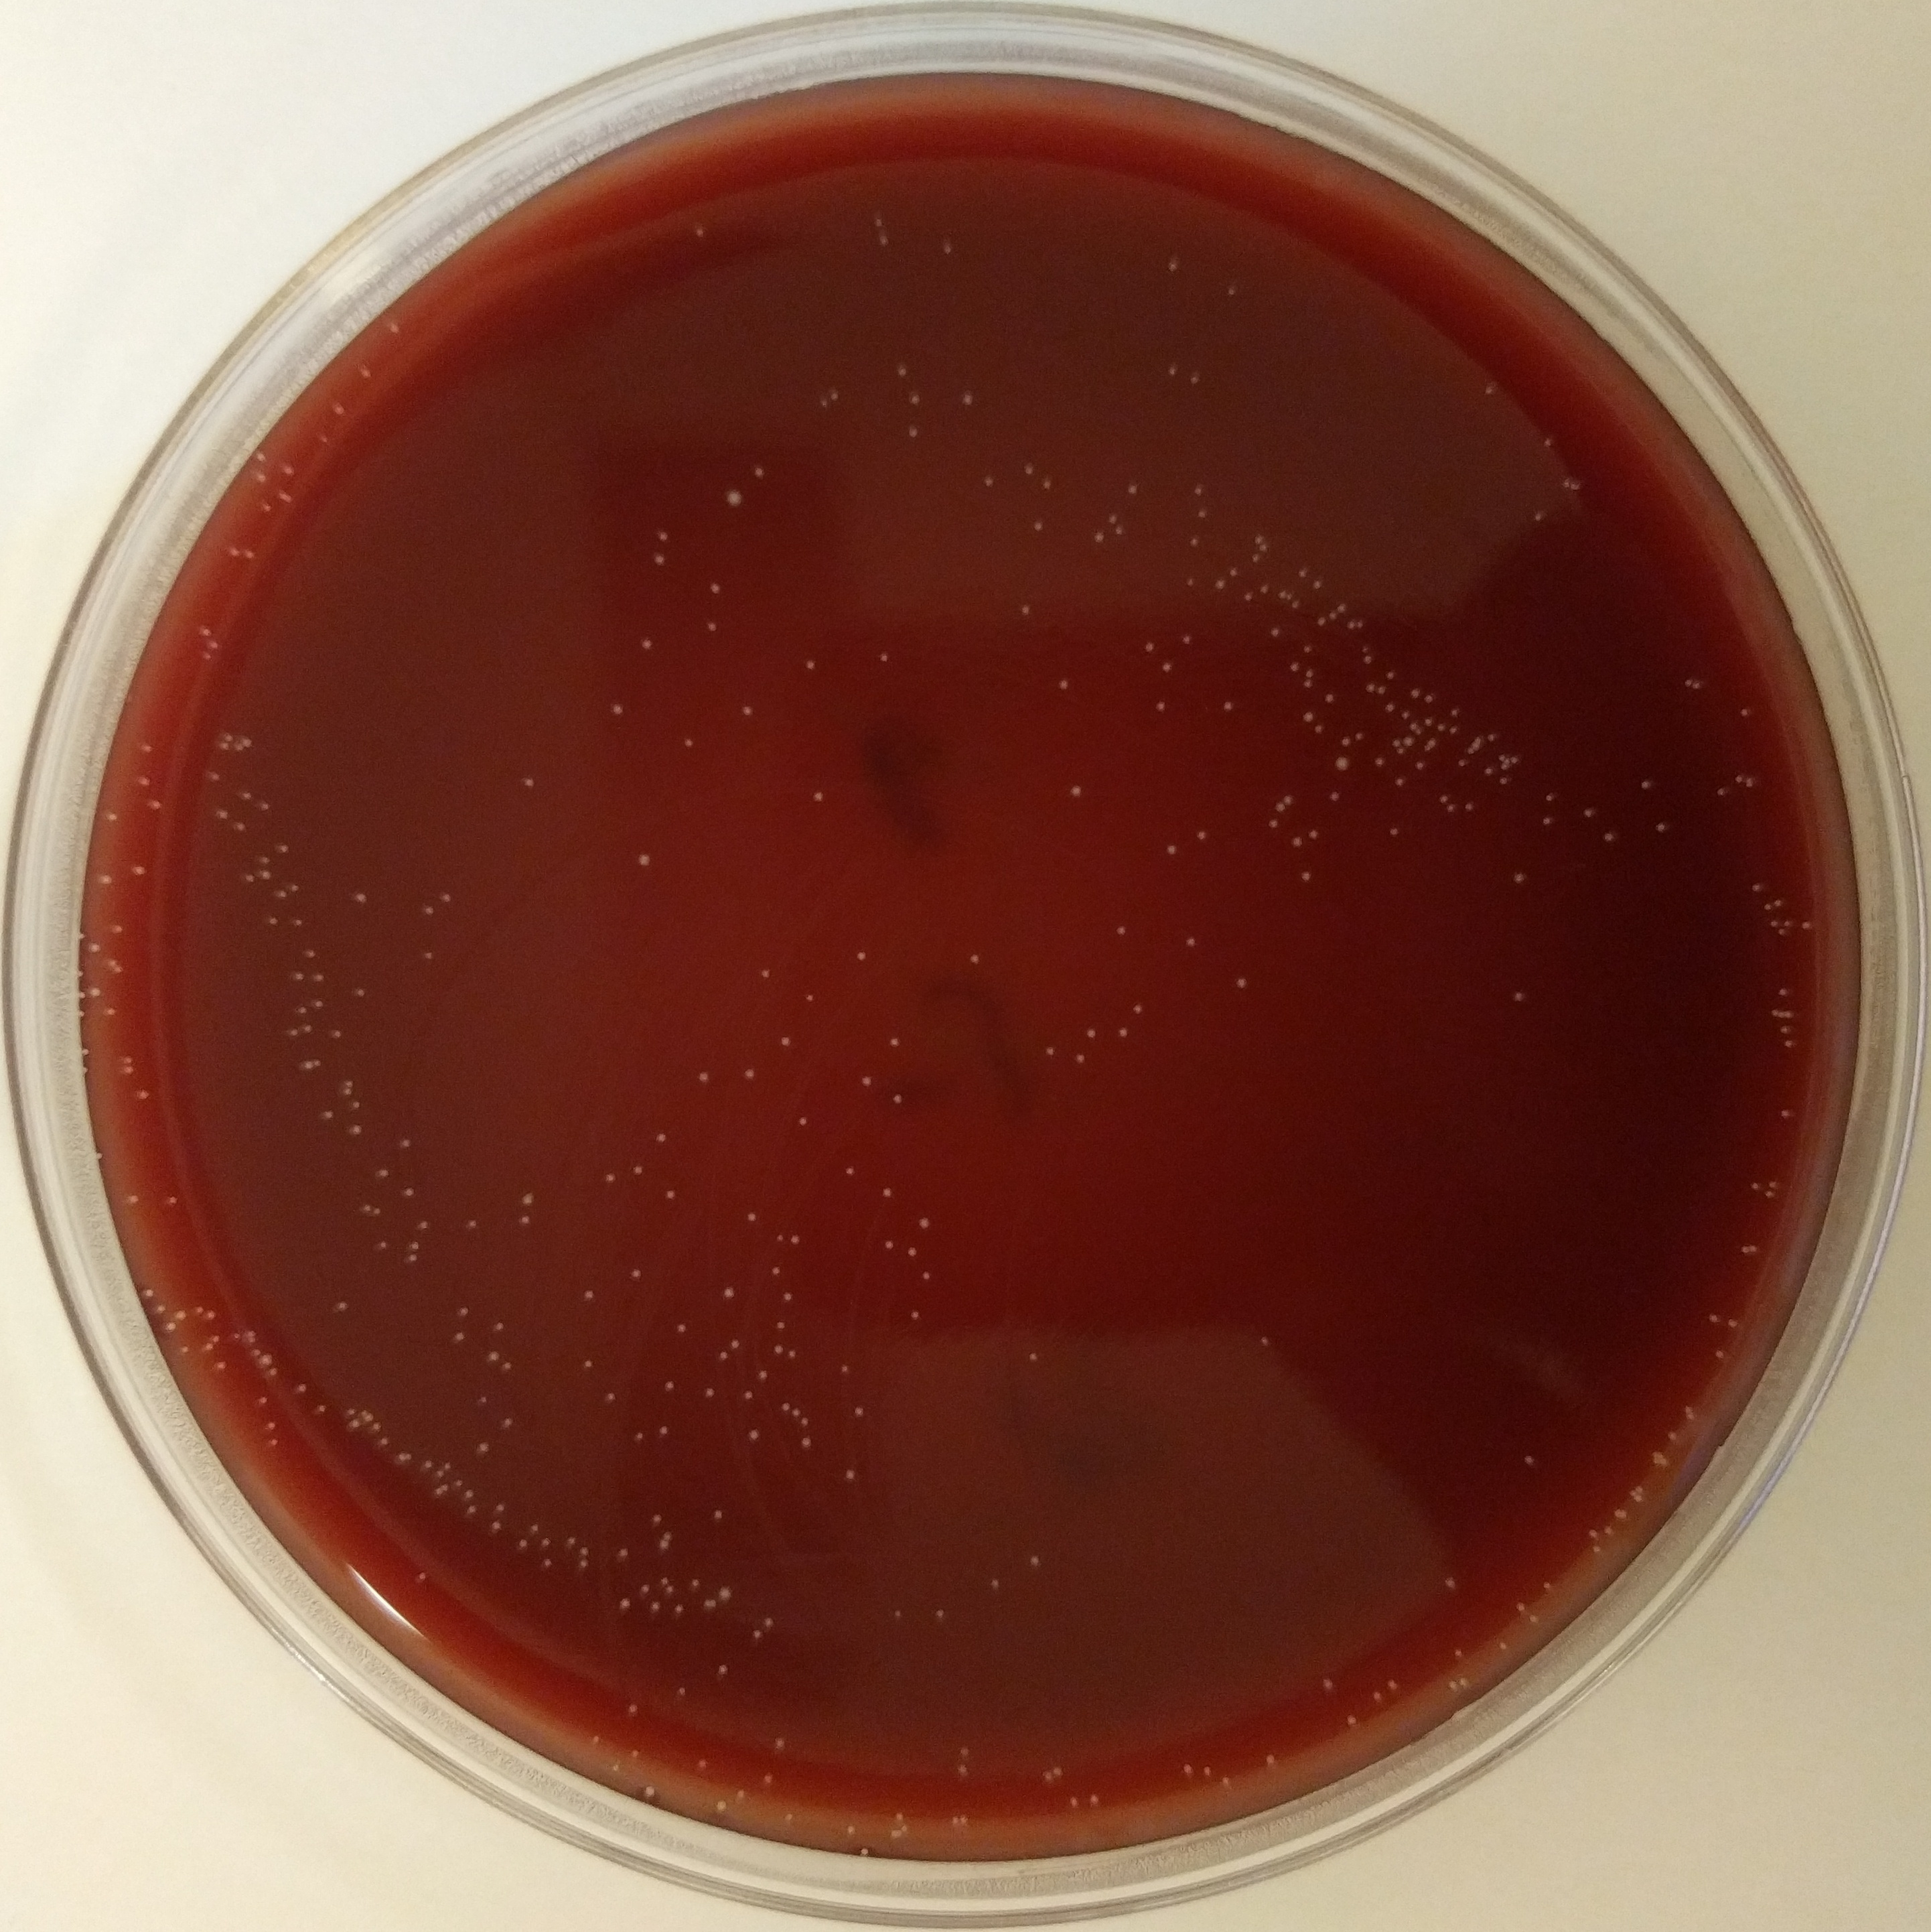sp09: (1650, 1445, 1675, 1472), (935, 235, 960, 258), (721, 490, 750, 510), (688, 223, 713, 244), (957, 387, 978, 412), (983, 1575, 1006, 1596), (700, 1385, 721, 1408), (1187, 368, 1206, 393), (902, 387, 928, 405), (902, 423, 923, 444), (743, 1424, 764, 1445), (750, 465, 773, 485), (690, 1753, 713, 1773), (838, 1465, 861, 1484), (474, 1435, 493, 1458), (143, 794, 166, 814), (239, 543, 258, 566), (345, 1120, 370, 1138), (874, 232, 895, 251), (1222, 281, 1243, 301), (1332, 754, 1351, 775), (1298, 674, 1319, 694), (1319, 1672, 1340, 1691), (914, 1214, 935, 1233), (875, 1182, 897, 1201), (255, 1352, 276, 1371), (953, 1743, 976, 1760), (718, 1582, 736, 1605), (198, 768, 221, 786), (1063, 1794, 1082, 1813), (713, 1660, 732, 1679), (295, 1380, 315, 1399), (1233, 975, 1252, 994), (516, 771, 536, 791), (637, 632, 656, 651), (279, 488, 299, 508), (315, 428, 334, 448), (1542, 787, 1560, 809), (1450, 1640, 1468, 1661), (849, 1403, 870, 1421), (858, 1070, 875, 1092), (965, 950, 983, 971), (1174, 632, 1197, 648), (927, 1605, 950, 1621), (1257, 1750, 1280, 1766), (953, 1762, 978, 1776), (653, 527, 672, 545), (1040, 476, 1059, 494), (1164, 364, 1183, 382), (1457, 1674, 1475, 1693), (711, 1798, 729, 1817), (601, 1389, 621, 1407), (842, 1164, 861, 1182), (661, 1185, 679, 1205), (262, 1414, 279, 1433), (608, 699, 626, 718), (801, 656, 820, 674), (396, 1132, 414, 1152), (286, 968, 306, 985), (384, 320, 403, 338), (1019, 598, 1034, 619), (1252, 1332, 1273, 1348), (1344, 1711, 1360, 1732), (1026, 1348, 1042, 1369), (753, 964, 775, 980), (258, 867, 279, 883), (255, 497, 271, 518), (249, 469, 271, 485), (327, 402, 348, 418), (1515, 1451, 1538, 1465), (1238, 589, 1256, 607), (1335, 600, 1353, 617), (1057, 676, 1075, 694), (1512, 869, 1530, 886), (1703, 1309, 1721, 1327), (1386, 1677, 1404, 1695), (635, 1580, 653, 1598), (905, 1307, 923, 1325), (798, 1435, 815, 1453), (630, 1263, 647, 1281), (580, 1288, 598, 1306), (518, 1189, 536, 1207), (630, 1162, 647, 1180), (334, 1297, 352, 1315), (1040, 1044, 1057, 1062), (309, 968, 327, 985), (421, 901, 439, 918), (221, 545, 239, 563), (870, 212, 889, 228), (1185, 533, 1204, 548), (1156, 699, 1172, 718), (1065, 782, 1084, 798), (1162, 842, 1181, 858), (1652, 817, 1668, 837), (1026, 1552, 1045, 1568), (1036, 1767, 1056, 1783), (1088, 1790, 1103, 1810), (888, 1828, 907, 1844), (202, 1309, 221, 1325), (159, 1318, 179, 1334), (649, 1129, 668, 1145), (743, 1063, 759, 1083), (237, 784, 253, 803), (271, 840, 290, 856), (1202, 1762, 1217, 1783), (1118, 1023, 1132, 1044), (645, 552, 667, 566), (893, 364, 911, 380), (980, 472, 997, 488), (1195, 828, 1213, 844), (1287, 833, 1305, 849), (1321, 692, 1339, 708), (1579, 803, 1595, 821), (1742, 775, 1758, 793), (1726, 1315, 1742, 1332), (889, 1808, 907, 1824), (608, 1760, 624, 1778), (587, 1730, 605, 1746), (762, 1617, 780, 1633), (488, 1518, 506, 1534), (836, 1361, 854, 1376), (631, 1428, 647, 1445), (663, 1376, 679, 1394), (746, 1208, 762, 1226), (918, 1269, 934, 1286), (721, 1286, 739, 1302), (675, 1320, 693, 1336), (580, 1355, 598, 1371), (497, 1414, 515, 1430), (375, 1164, 391, 1182), (695, 1069, 711, 1086), (803, 989, 819, 1007), (1084, 1024, 1100, 1042), (810, 787, 826, 805), (741, 701, 757, 718), (702, 619, 720, 635), (301, 947, 318, 962), (110, 920, 127, 936), (232, 819, 248, 837), (279, 464, 297, 479), (357, 364, 373, 382), (1125, 483, 1144, 497), (1478, 384, 1498, 398), (1323, 789, 1342, 803), (513, 1537, 532, 1552), (486, 1320, 506, 1334), (133, 1088, 152, 1102), (1114, 524, 1130, 540), (1091, 527, 1107, 543), (1268, 800, 1284, 816), (1312, 722, 1328, 738), (1386, 824, 1402, 840), (893, 1606, 909, 1622), (842, 1822, 858, 1838), (622, 1700, 638, 1716), (615, 1596, 631, 1612), (615, 1546, 631, 1562), (755, 1366, 771, 1382), (790, 1233, 806, 1249), (882, 1238, 898, 1254), (456, 1302, 472, 1318), (152, 1300, 168, 1316), (638, 853, 654, 869), (440, 890, 456, 906), (354, 890, 370, 906), (129, 862, 145, 878), (214, 807, 230, 823), (253, 449, 269, 465), (1158, 662, 1176, 676), (1280, 794, 1294, 812), (1300, 869, 1314, 886), (1303, 708, 1317, 725), (1114, 924, 1132, 938), (760, 1771, 778, 1785), (769, 1736, 787, 1750), (647, 1509, 665, 1523), (799, 1412, 813, 1430), (780, 1288, 794, 1306), (405, 1253, 423, 1267), (407, 1238, 421, 1256), (370, 1201, 384, 1219), (1073, 1053, 1091, 1067), (1183, 934, 1201, 948), (875, 649, 889, 667), (318, 1106, 332, 1123), (239, 870, 256, 885), (97, 872, 115, 886), (103, 955, 120, 970), (87, 985, 104, 1000), (104, 809, 118, 826), (256, 796, 271, 814), (1183, 577, 1202, 589), (1445, 1571, 1457, 1591), (729, 1789, 748, 1801), (343, 1419, 363, 1431), (99, 1007, 118, 1019), (1190, 483, 1204, 499), (1195, 508, 1210, 524), (1250, 550, 1264, 566), (1227, 564, 1241, 580), (1213, 577, 1227, 593), (1268, 626, 1284, 640), (1222, 697, 1236, 713), (1268, 817, 1282, 833), (1309, 826, 1323, 842), (1376, 685, 1390, 701), (1406, 686, 1422, 701), (1392, 775, 1408, 789), (1540, 812, 1554, 828), (1636, 778, 1652, 793), (1602, 830, 1618, 844), (1779, 1106, 1793, 1122), (944, 1813, 960, 1828), (642, 1785, 658, 1799), (626, 1744, 640, 1760), (750, 1628, 764, 1644), (649, 1601, 663, 1617), (451, 1476, 467, 1490), (787, 1346, 801, 1362), (741, 1387, 755, 1403), (656, 1424, 672, 1438), (775, 1318, 789, 1334), (474, 1392, 490, 1407), (518, 1214, 534, 1228), (394, 1451, 408, 1467), (214, 1359, 230, 1373), (375, 1237, 389, 1253), (403, 1185, 417, 1201), (889, 1092, 905, 1106), (854, 948, 868, 964), (423, 950, 439, 964), (88, 939, 103, 955), (136, 773, 152, 787), (240, 734, 255, 750), (1510, 991, 1528, 1003), (1498, 1638, 1510, 1656), (856, 1845, 874, 1858), (465, 1502, 477, 1520), (483, 1348, 500, 1361), (780, 1031, 792, 1049), (136, 745, 154, 757), (212, 741, 232, 752), (1020, 460, 1034, 474), (1540, 435, 1554, 449), (1339, 736, 1353, 750), (1353, 731, 1367, 745), (1286, 660, 1300, 674), (1360, 653, 1374, 667), (1401, 734, 1415, 748), (1372, 755, 1386, 770), (1462, 800, 1477, 814), (1438, 793, 1452, 807), (1713, 787, 1728, 801), (1777, 985, 1791, 1000), (1745, 1178, 1759, 1192), (1712, 1346, 1726, 1361), (1050, 1762, 1065, 1776), (1370, 1690, 1385, 1704), (1445, 1679, 1459, 1693), (527, 1522, 541, 1536), (416, 1568, 430, 1582), (790, 1407, 805, 1421), (771, 1341, 785, 1355), (904, 1246, 918, 1260), (378, 1435, 393, 1449), (331, 1028, 345, 1042), (274, 888, 288, 902), (288, 881, 302, 895), (828, 387, 843, 400), (1031, 520, 1047, 533), (1254, 531, 1266, 547), (1296, 566, 1309, 582), (1324, 609, 1337, 625), (1351, 617, 1367, 630), (1142, 642, 1158, 655), (1303, 669, 1319, 681), (1363, 681, 1379, 694), (1774, 925, 1790, 938), (1510, 1601, 1526, 1614), (1220, 1773, 1233, 1789), (576, 1545, 592, 1557), (539, 1557, 555, 1569), (495, 1500, 508, 1516), (775, 1231, 787, 1247), (265, 1440, 281, 1453), (140, 1286, 156, 1299), (1132, 1001, 1144, 1017), (679, 736, 695, 748), (294, 916, 306, 932), (1169, 258, 1179, 276), (1254, 584, 1271, 594), (1689, 679, 1706, 690), (1583, 1527, 1600, 1537), (126, 1189, 136, 1207), (294, 1005, 311, 1016), (1314, 617, 1328, 630), (1406, 718, 1420, 731), (1448, 706, 1462, 718), (1455, 759, 1469, 771), (1485, 732, 1500, 745), (1445, 801, 1457, 816), (1772, 897, 1786, 909), (1763, 1189, 1777, 1201), (1738, 1242, 1751, 1256), (1611, 1504, 1623, 1518), (1526, 1612, 1540, 1624), (1183, 1762, 1195, 1776), (660, 1573, 672, 1587), (661, 1527, 674, 1541), (564, 1536, 578, 1548), (729, 1339, 743, 1352), (364, 1412, 378, 1424), (265, 1366, 279, 1378), (173, 1307, 186, 1322), (794, 1113, 806, 1127), (889, 1035, 902, 1049), (709, 584, 723, 596), (258, 855, 271, 869), (74, 929, 88, 941), (74, 966, 87, 980), (92, 1152, 104, 1166), (122, 1053, 134, 1067), (198, 625, 212, 637), (207, 637, 221, 649), (1298, 646, 1314, 656), (1390, 734, 1401, 750), (1620, 1504, 1630, 1520), (654, 1541, 670, 1552), (769, 1261, 780, 1277), (297, 1058, 313, 1069), (196, 651, 212, 662), (1415, 725, 1427, 738), (1471, 736, 1484, 748), (1482, 766, 1494, 778), (1738, 706, 1751, 718), (1751, 883, 1763, 895), (1761, 901, 1774, 913), (1765, 1003, 1777, 1016), (1782, 1039, 1795, 1051), (1749, 1242, 1761, 1254), (898, 1822, 911, 1835), (690, 1576, 702, 1589), (578, 1559, 591, 1571), (463, 1488, 476, 1500), (431, 1486, 444, 1499), (716, 1348, 729, 1361), (451, 1329, 463, 1341), (465, 1217, 477, 1230), (345, 1407, 357, 1419), (244, 1327, 256, 1339), (355, 987, 368, 1000), (80, 1044, 92, 1056), (122, 1063, 134, 1076), (223, 729, 235, 741), (819, 395, 829, 409), (1105, 511, 1119, 522), (1291, 596, 1301, 610), (1561, 476, 1572, 490), (1385, 669, 1399, 679), (1425, 715, 1436, 729), (1446, 724, 1457, 738), (1397, 745, 1408, 759), (1733, 773, 1744, 787), (1802, 918, 1813, 932), (1666, 1431, 1680, 1442), (674, 1686, 688, 1697), (713, 1506, 723, 1520), (541, 1534, 552, 1548), (780, 1401, 794, 1412), (605, 1171, 619, 1182), (355, 1408, 370, 1419), (317, 1401, 327, 1415), (166, 1194, 180, 1205), (661, 1583, 677, 1592), (1312, 579, 1323, 591), (1342, 619, 1355, 630), (1425, 694, 1436, 706), (1422, 741, 1432, 754), (1500, 775, 1510, 787), (1779, 1021, 1790, 1033), (1768, 1178, 1781, 1189), (1602, 1523, 1613, 1536), (1542, 1580, 1554, 1591), (958, 1813, 969, 1826), (780, 1812, 792, 1822), (440, 1483, 451, 1495), (502, 1361, 513, 1373), (371, 1422, 382, 1435), (256, 1394, 269, 1405), (249, 1346, 262, 1357), (244, 1336, 256, 1346), (209, 1332, 221, 1343), (419, 1219, 430, 1231), (354, 1099, 364, 1111), (311, 1058, 322, 1070), (315, 998, 325, 1010), (78, 987, 88, 1000), (232, 743, 244, 754), (1277, 587, 1286, 602), (1570, 483, 1584, 492), (1399, 711, 1413, 720), (341, 1088, 355, 1097), (301, 1024, 315, 1033), (286, 1026, 295, 1040), (269, 915, 278, 929), (1429, 734, 1439, 745), (1415, 759, 1425, 770), (1782, 916, 1793, 927), (674, 1603, 684, 1614), (435, 1468, 446, 1479), (361, 1201, 371, 1212), (347, 1077, 357, 1088), (1436, 725, 1448, 734), (1466, 745, 1475, 757), (1501, 761, 1510, 773), (1590, 1545, 1602, 1553), (711, 1598, 720, 1610), (407, 1451, 416, 1463), (230, 1330, 242, 1339), (180, 1343, 189, 1355), (80, 1067, 92, 1076), (1469, 745, 1484, 752), (702, 1596, 709, 1610), (78, 1007, 85, 1021), (1533, 511, 1542, 522), (1386, 704, 1395, 715), (1510, 755, 1521, 764), (1498, 754, 1508, 763), (1685, 676, 1694, 686), (1768, 918, 1779, 927), (1777, 1010, 1788, 1019), (1634, 1483, 1645, 1491), (1627, 1488, 1637, 1497), (442, 1460, 453, 1468), (205, 1343, 214, 1353), (193, 1306, 203, 1315), (113, 966, 124, 975), (1254, 541, 1266, 548), (1284, 593, 1293, 602), (1636, 1493, 1645, 1502), (1360, 644, 1370, 651), (1683, 1403, 1694, 1410), (1685, 1414, 1696, 1421), (424, 1458, 433, 1465), (1503, 759, 1512, 764), (1788, 1010, 1793, 1019)
